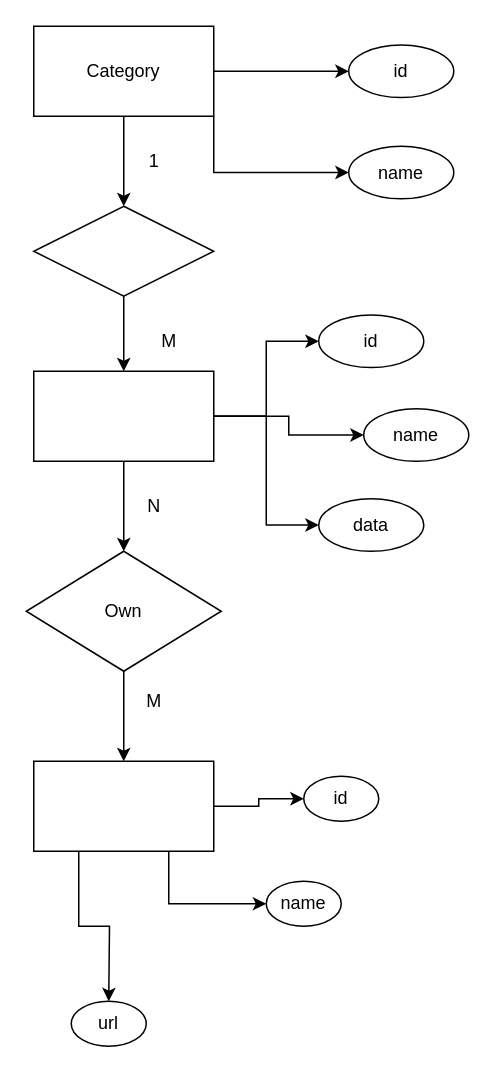
Image size: 495x1073. Some labels were removed from this diagram. Each missing label, with the box of its shape:
has: (32, 205, 214, 296)
Image: (32, 760, 214, 851)
News: (32, 370, 214, 461)
